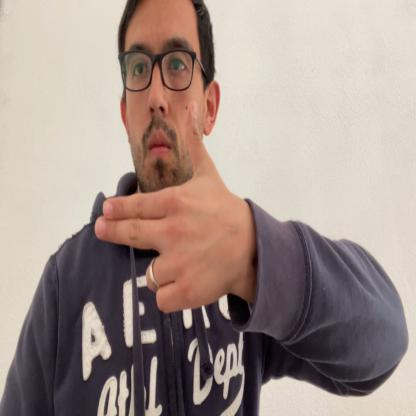H: (98, 99, 243, 314)
